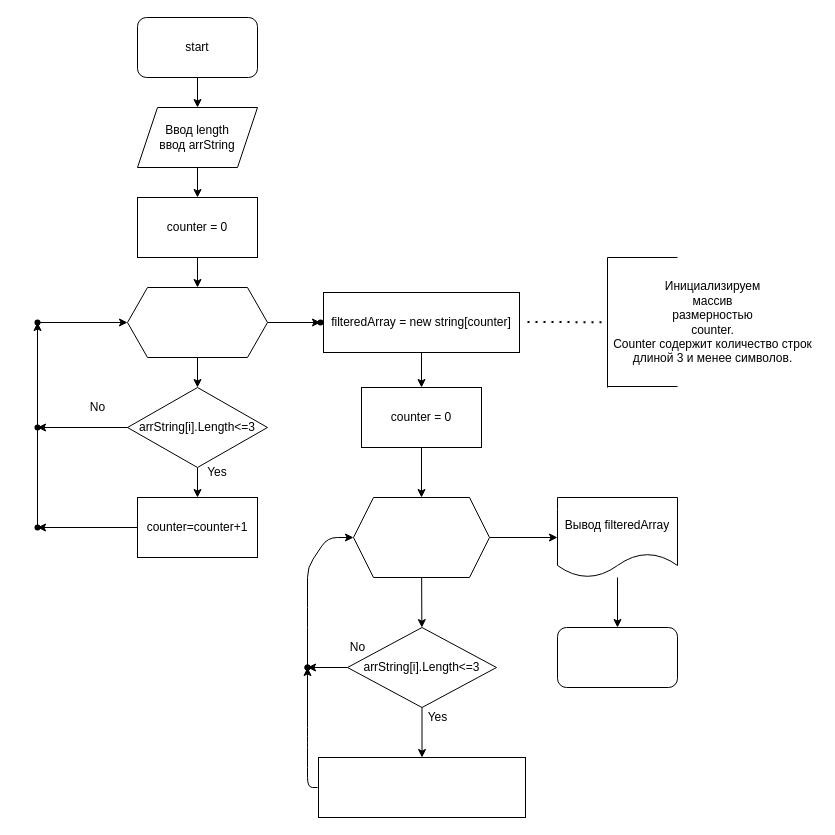
This 835x835 diagram has some shape labels left out. Each missing label, with the box of its shape:
filteredArray[counter] = arrString[i] counter = counter+1: (318, 756, 526, 818)
Finish: (556, 626, 678, 688)
i = 0; i < length; i = i +1: (352, 496, 490, 578)
i=0; i<length; i=i+1: (126, 286, 268, 358)
